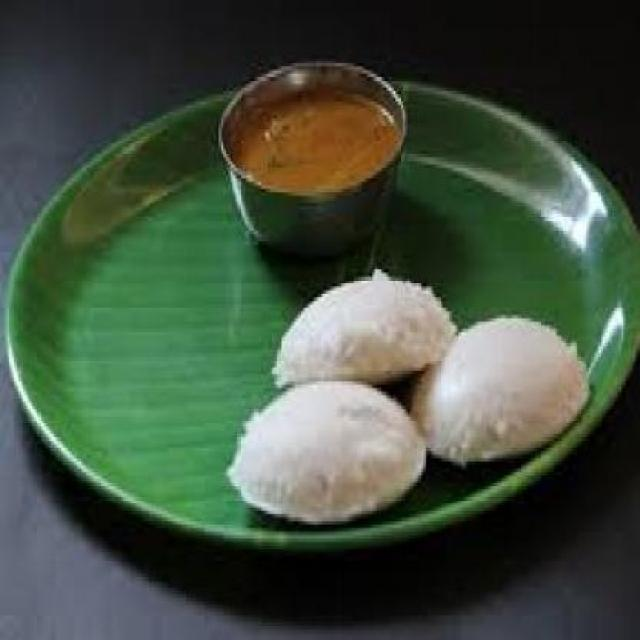idli: (228, 380, 424, 523), (409, 318, 589, 464), (274, 270, 455, 388)
